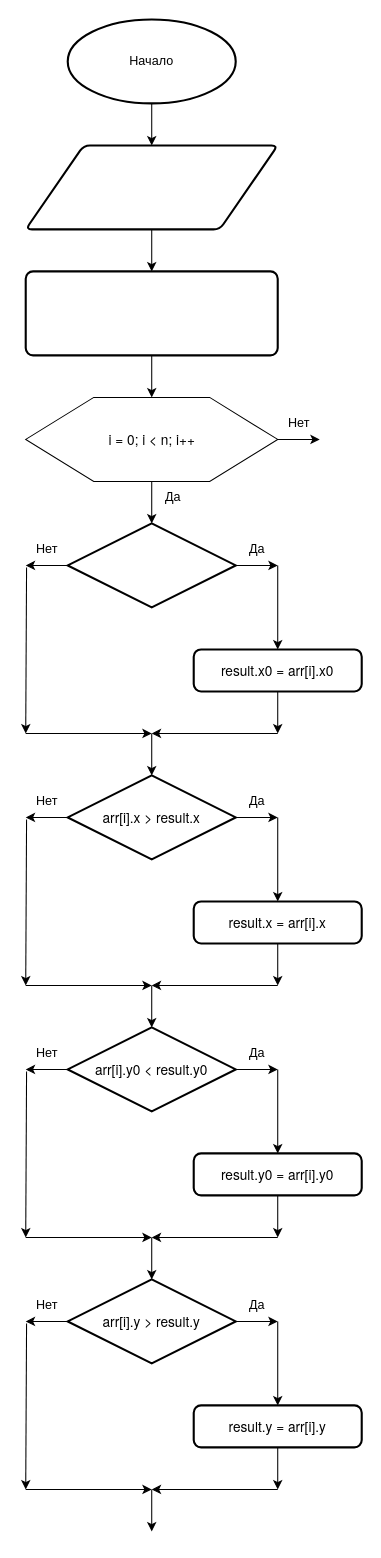
This 381x1558 diagram has some shape labels left out. The box of each missing label's shape, as (x1, y1, x2, y2) in pixels:
arr[i].x0 < result.x0: (66, 522, 236, 608)
result = {1e9, -1e9, 1e9, -1e9}: (24, 270, 278, 356)
Ввод: struct rectangle *arr, int n: (24, 144, 278, 230)
